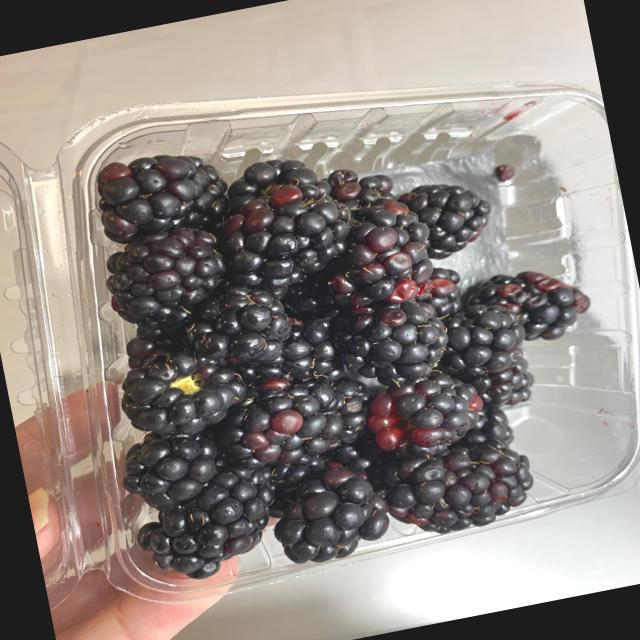blackberries: (75, 78, 615, 591)
